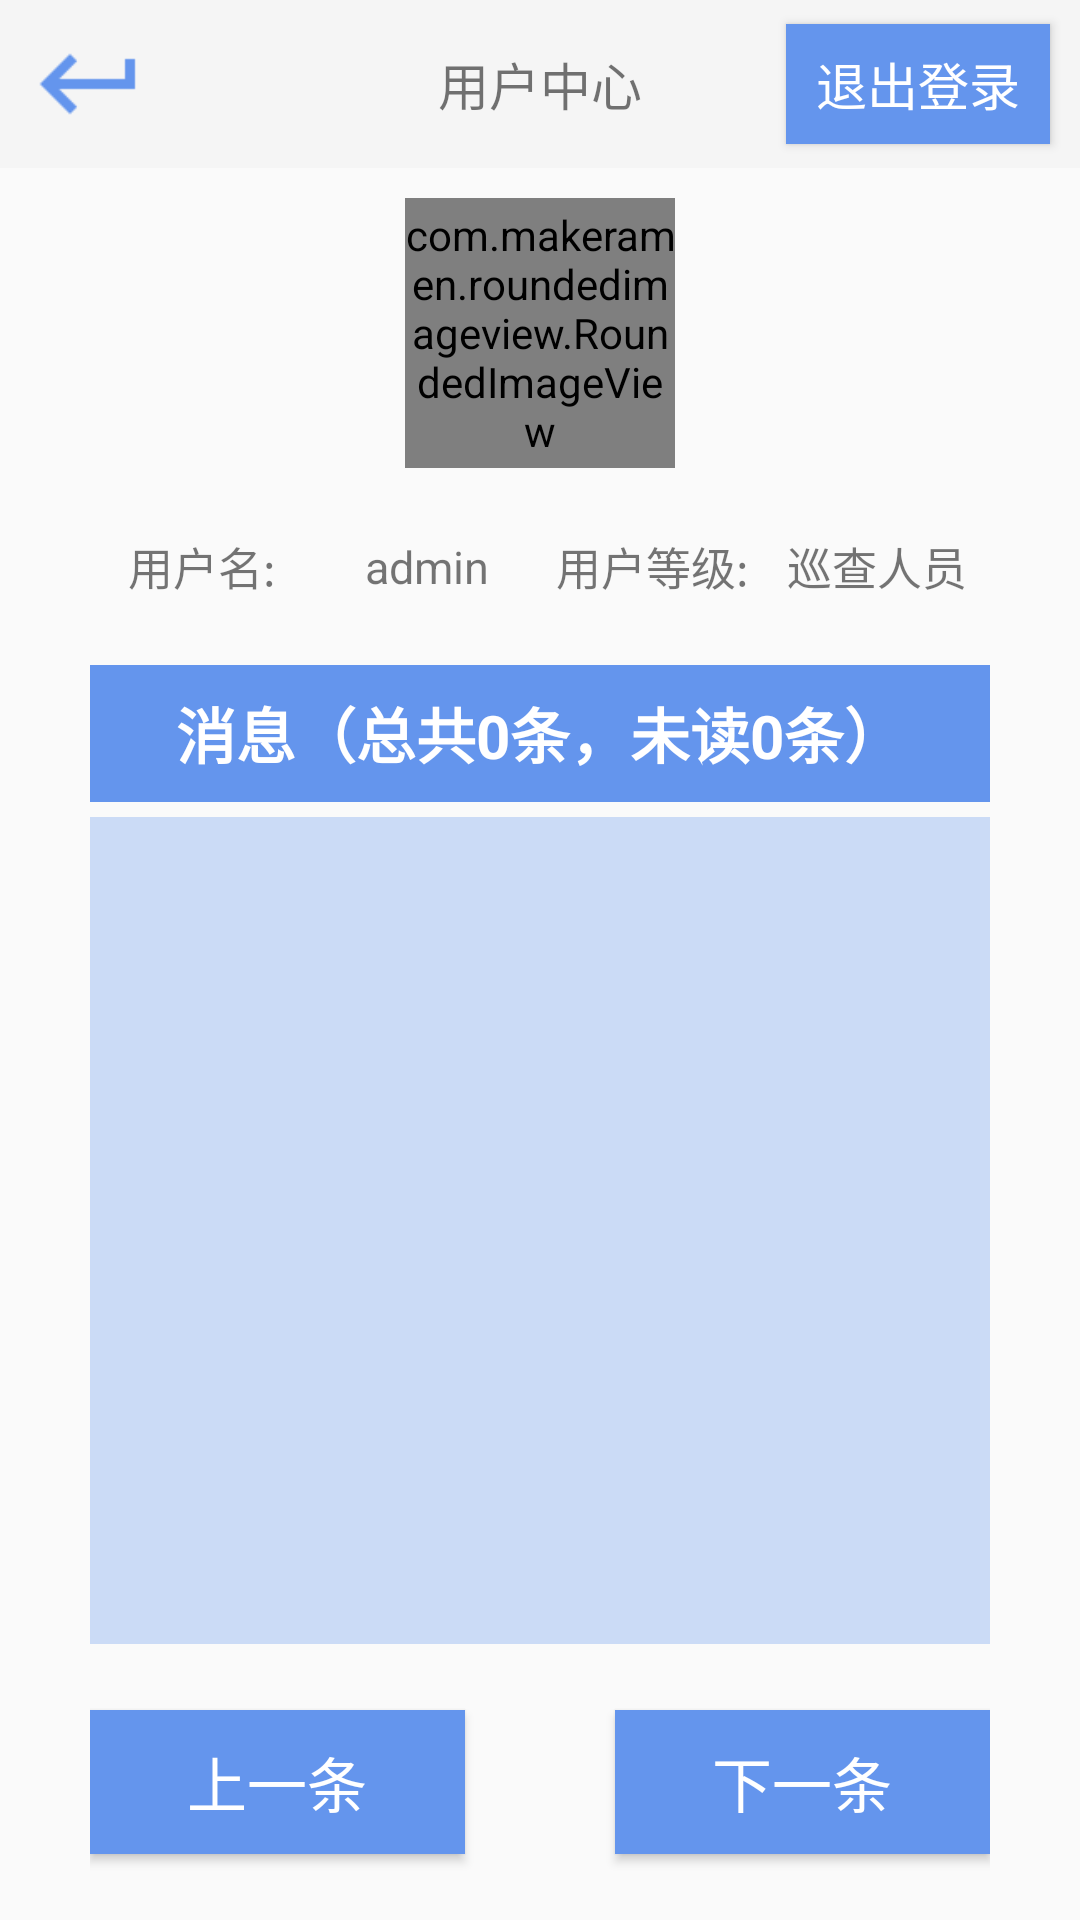

Icon bounding boxes for this 1080 × 1920 phone screenshot, format rect(x1, y1, x2, y2):
keyboard return: rect(40, 54, 136, 114)
